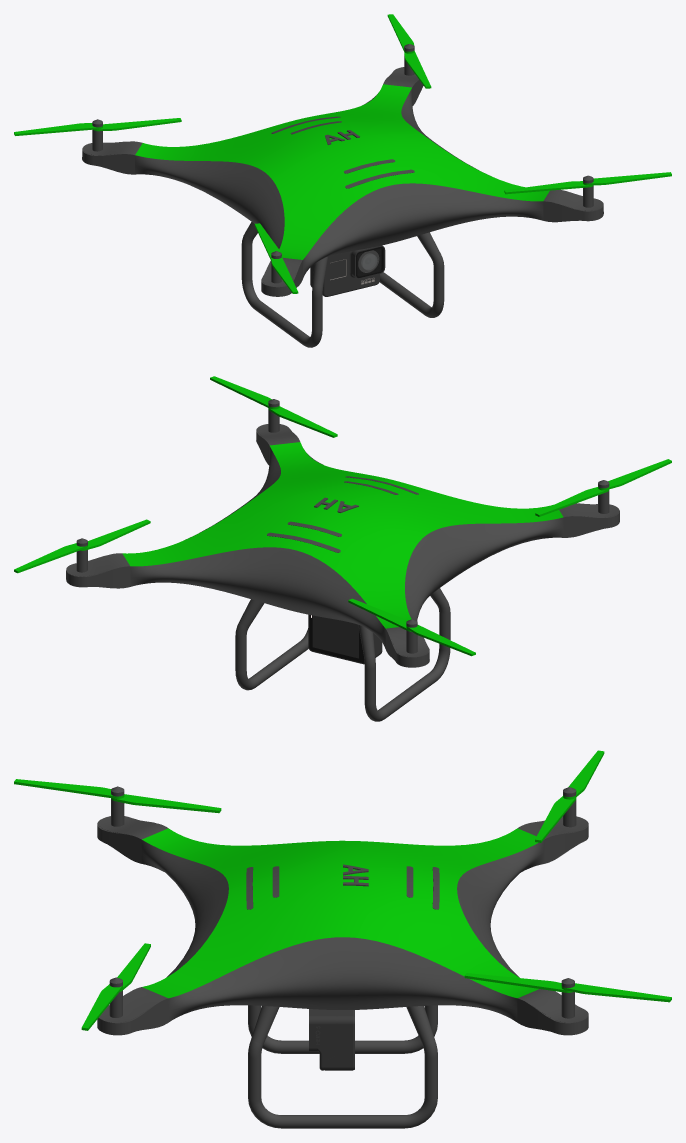
Rendered from Drone.glb.
The picture shows the model from 3 angles, top to bottom: view 1: azimuth 30°, elevation 25°; view 2: azimuth 150°, elevation 25°; view 3: azimuth 270°, elevation 25°; orthographic projection. The views are drawn at different scales.
Visible parts, largest first — view 1: color-2, color, light grey soft touch plastic; view 2: color-2, color, light grey soft touch plastic; view 3: color-2, color, light grey soft touch plastic.
Boxes of the visible parts, <box> form: color-2: <box>82,44,603,347</box>; color: <box>14,14,671,293</box>; light grey soft touch plastic: <box>310,245,385,296</box>; color-2: <box>66,399,619,721</box>; color: <box>14,376,671,656</box>; light grey soft touch plastic: <box>308,614,382,664</box>; color-2: <box>97,786,588,1128</box>; color: <box>14,750,671,1030</box>; light grey soft touch plastic: <box>309,1009,354,1070</box>.
Size of the model in its own units: 0.4904 by 0.1789 by 0.4904.
12 materials, 1 textured.
